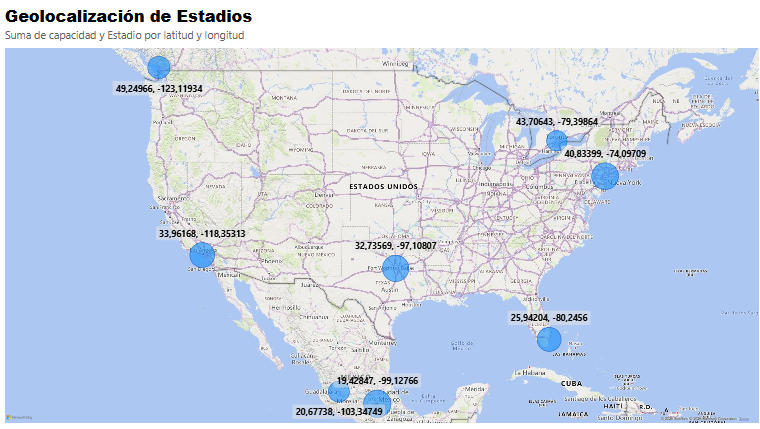

What the dashboard file says about the page in this screenshot:
{"tool":"powerbi","page":{"name":"Página 4","canvas":[1920,1080],"ordinal":3},"visuals":[{"type":"map","title":"Geolocalización de Estadios","fields":{"Size":["Sum(administracion Sede.capacidad)"],"X":["administracion Sede.longitud"],"Y":["administracion Sede.latitud"]},"box":[0,0,1920,1080],"z":0}]}

Visuals, with their boxes in screenshot pixels (x1, y1, x2, y2), scaled from the page's 1920x1080 canvas onto the 760x429 screenshot:
"Geolocalización de Estadios" map: pyautogui.locateOnScreen(0, 0, 759, 428)
